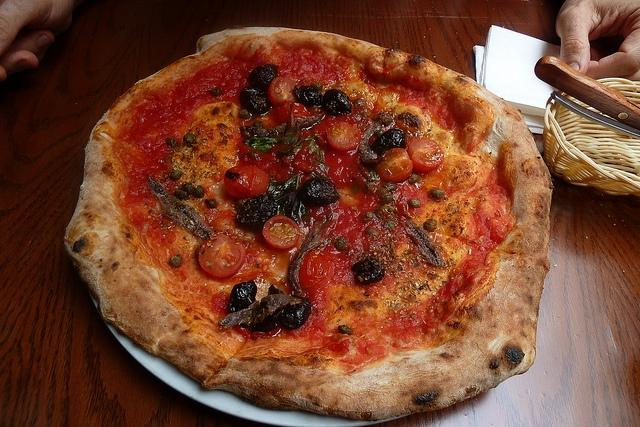tomato: (198, 232, 246, 279), (298, 249, 334, 293), (224, 165, 270, 199), (406, 137, 444, 173), (262, 216, 301, 250), (376, 148, 413, 182), (327, 122, 361, 152), (268, 76, 298, 108), (276, 102, 310, 125)
